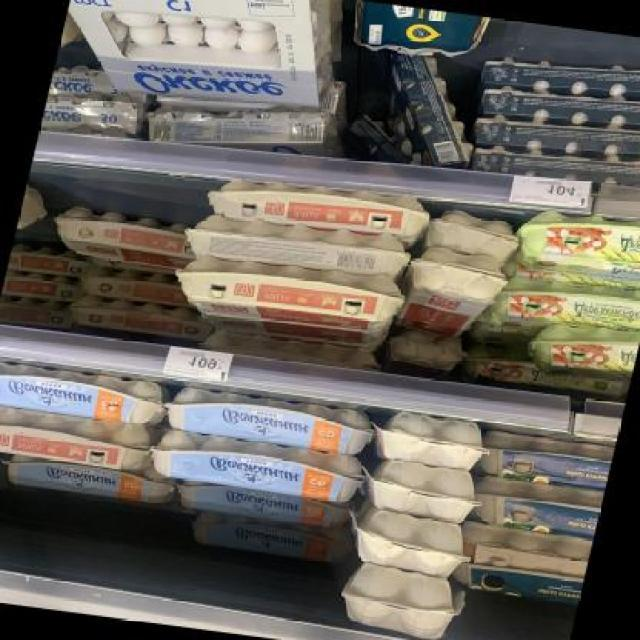Egg: (169, 250, 401, 336), (204, 173, 427, 243), (0, 403, 149, 474), (470, 430, 616, 493), (458, 478, 604, 541), (351, 510, 468, 577), (364, 458, 481, 525), (374, 410, 491, 477)
